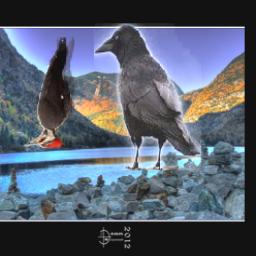Crow: (94, 23, 201, 170)
Woodpecker: (23, 38, 74, 149)
